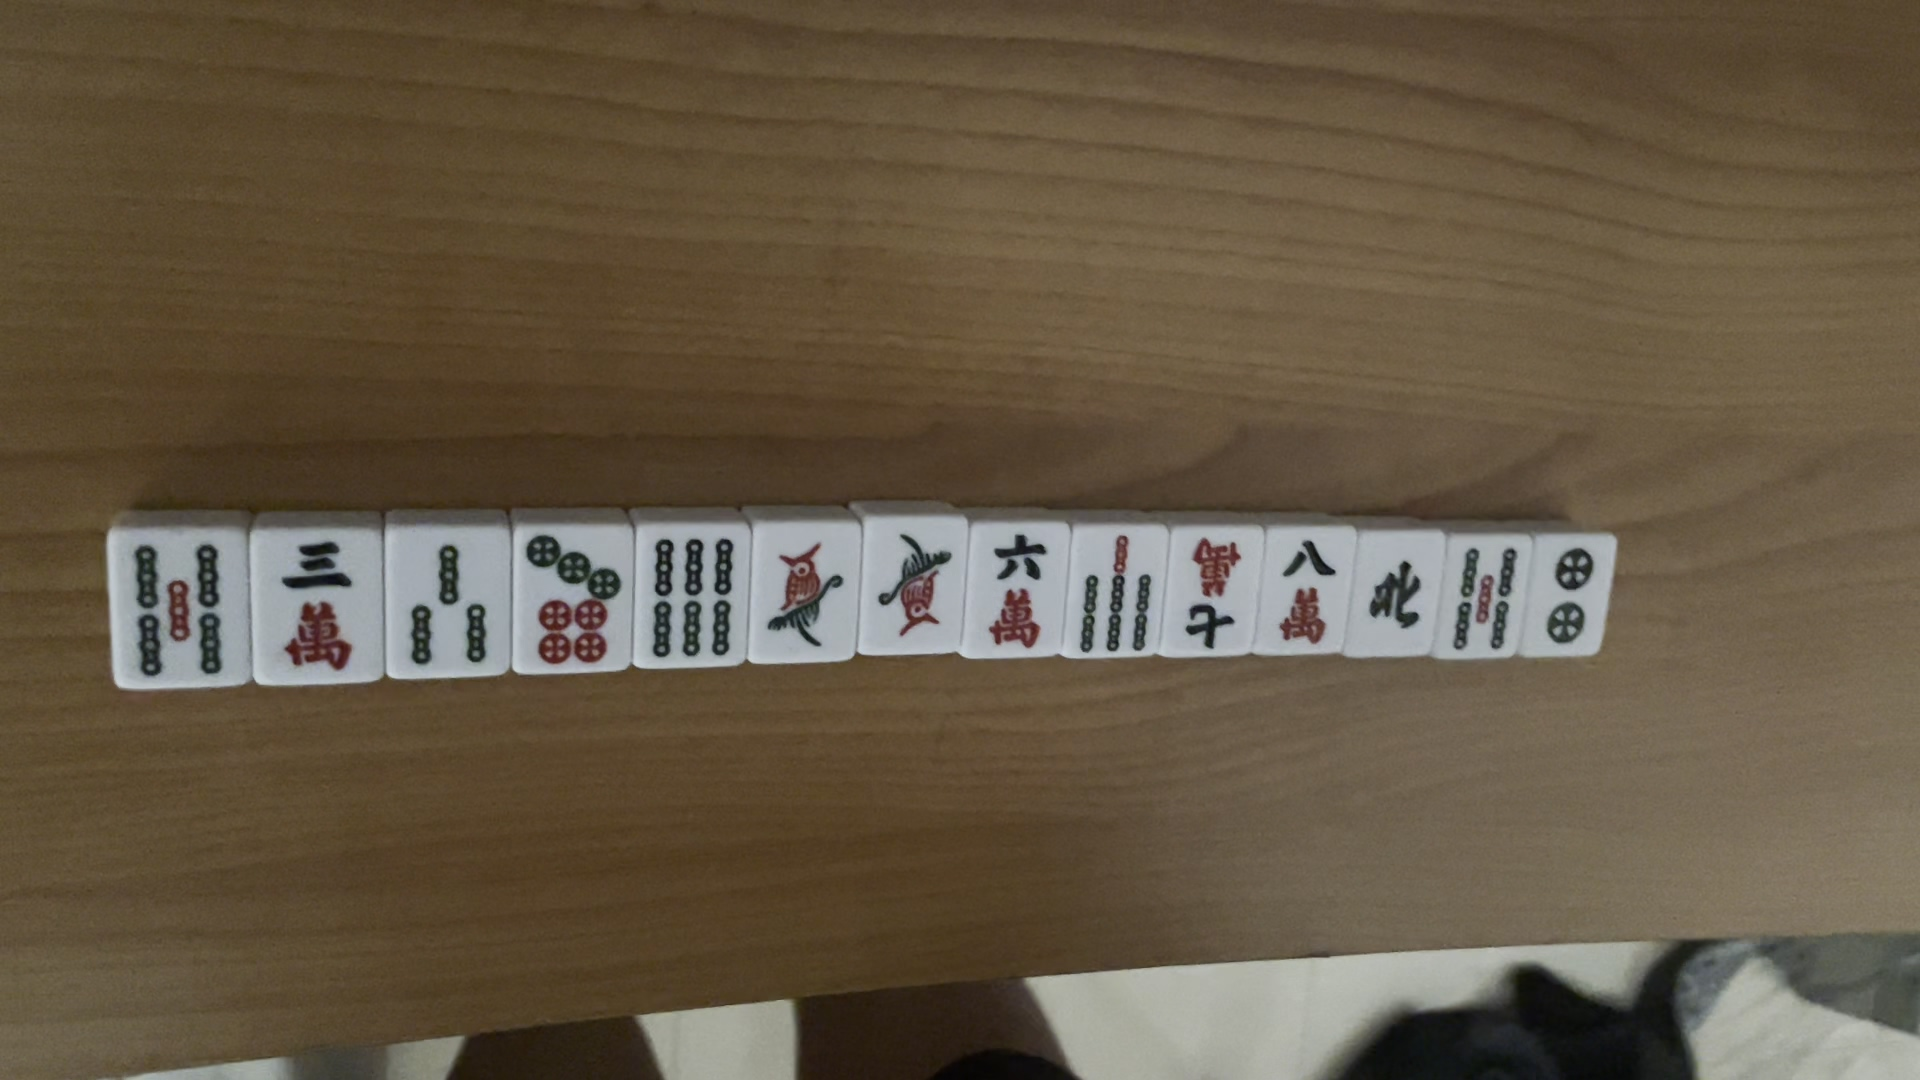b-1: (764, 538, 847, 647), (876, 531, 957, 640)
b-3: (396, 535, 497, 673)
b-5: (123, 541, 228, 682), (1448, 545, 1519, 653)
b-6: (642, 537, 732, 662)
b-7: (1076, 531, 1156, 651)
c-3: (272, 535, 363, 673)
c-6: (978, 531, 1048, 647)
c-7: (1176, 533, 1240, 653)
c-8: (1269, 533, 1338, 650)
d-2: (1535, 545, 1600, 647)
d-7: (524, 537, 622, 665)
honors-north: (1365, 559, 1428, 636)
